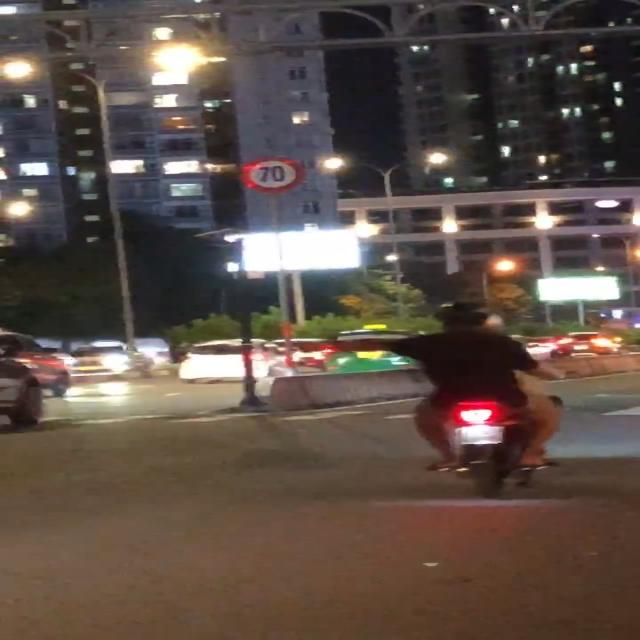Bien bao toc do toi da cho phep: (228, 154, 312, 198)
